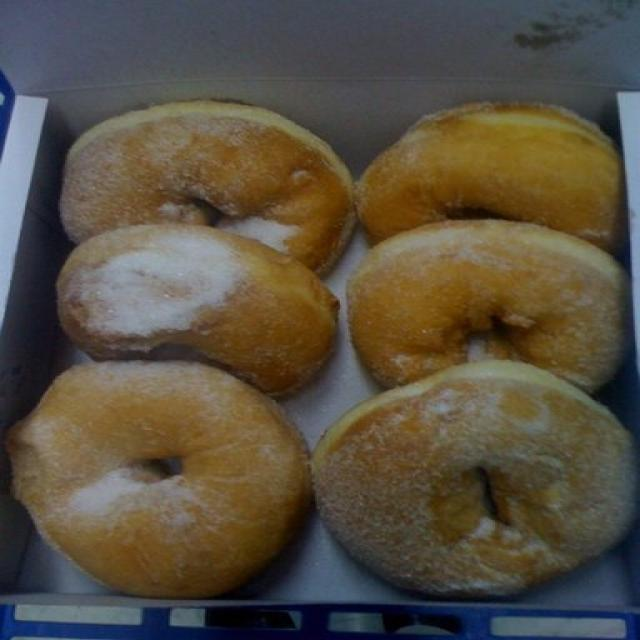Donuts: (28, 88, 640, 622)
